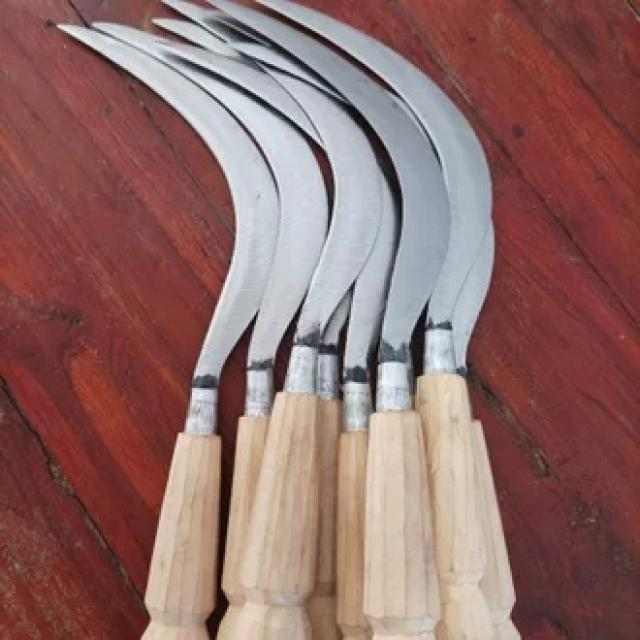Celurit: (53, 14, 528, 640)
